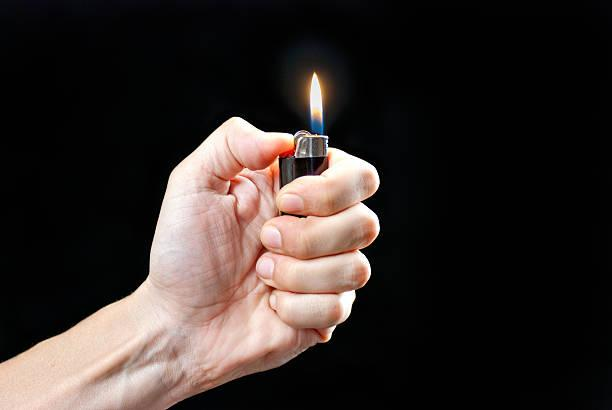Fire: (308, 71, 333, 133)
